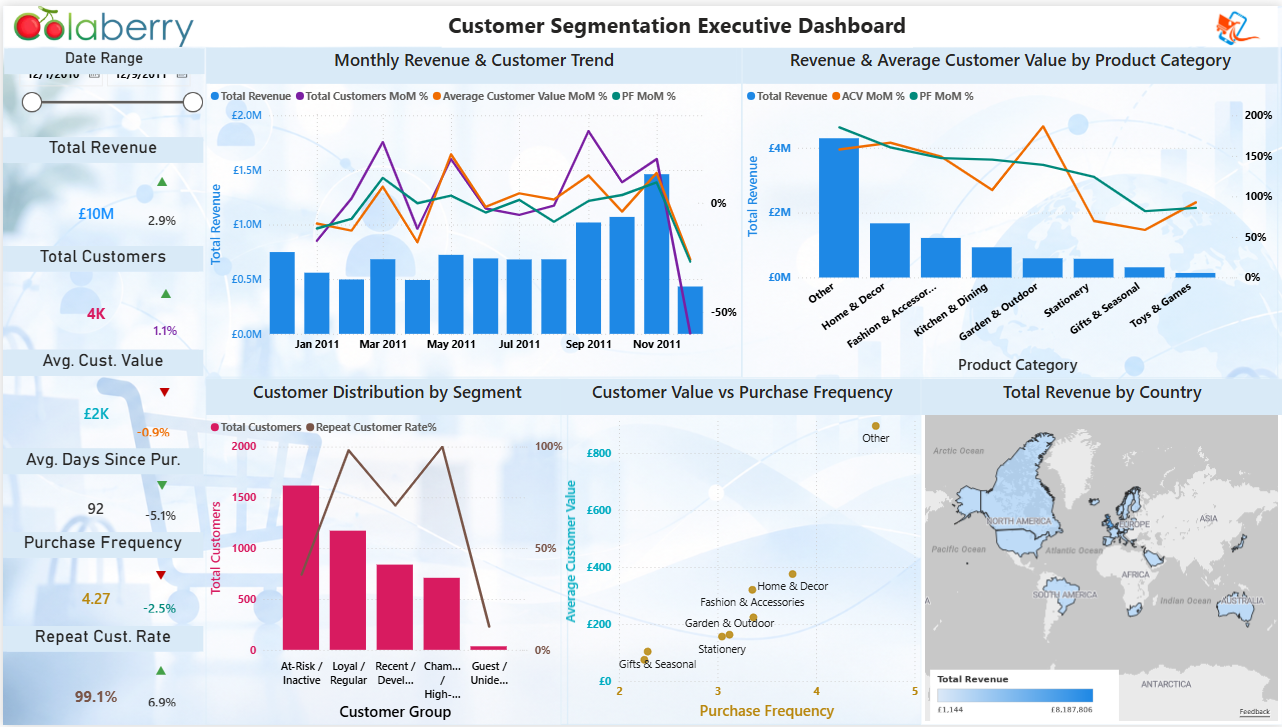

The page's visual inventory and layout, read from the dashboard file:
{"tool":"powerbi","page":{"name":" Final Dashboard - Revised","canvas":[1600,900],"ordinal":4},"visuals":[{"type":"shape","box":[1.6,0,1591.8,50.8],"z":0},{"type":"image","box":[1488.1,0,110.2,50.8],"z":1000},{"type":"image","box":[1.7,0,249.2,50.8],"z":2000},{"type":"slicer","fields":{"Values":["Online Retail.InvoiceDate"]},"box":[8.5,58,250.8,118],"z":3000},{"type":"cardVisual","fields":{"Data":["CustomerSegments.Total Customers"]},"box":[0,314.8,250.8,118],"z":4000},{"type":"cardVisual","fields":{"Data":["CustomerSegments.Average Customer Value"]},"box":[0,435.6,250,118.6],"z":5000},{"type":"cardVisual","fields":{"Data":["CustomerSegments.Average Days Since Purchase"]},"box":[0,550.8,250,118],"z":6000},{"type":"lineClusteredColumnComboChart","title":"Monthly Revenue & Customer Trend","fields":{"Category":["Online Retail.Month Start"],"Y":["CustomerSegments.Total Revenue"],"Y2":["CustomerSegments.Total Customers MoM %","CustomerSegments.Average Customer Value MoM %","CustomerSegments.Purchase Frequency MoM %"]},"box":[253.6,51.8,670,413],"z":7000},{"type":"lineStackedColumnComboChart","title":"Customer Distribution by Segment","fields":{"Category":["Online Retail.Customer Group"],"Y":["CustomerSegments.Total Customers"],"Y2":["CustomerSegments.Repeat Customer Rate by Segment"]},"box":[252.7,465.5,453,433.9],"z":8000},{"type":"scatterChart","title":"Customer Value vs Purchase Frequency","fields":{"Category":["Online Retail.Product Category"],"X":["CustomerSegments.Purchase Frequency Monthly"],"Y":["CustomerSegments.Average Customer Value"]},"box":[696.4,466.1,453,433],"z":9000},{"type":"lineClusteredColumnComboChart","title":"Revenue & Average Customer Value by Product Category","fields":{"Category":["Online Retail.Product Category"],"Y":["CustomerSegments.Total Revenue"],"Y2":["CustomerSegments.Average Customer Value MoM %","CustomerSegments.Purchase Frequency MoM %"]},"box":[923.2,51.8,670,413.6],"z":10000},{"type":"cardVisual","fields":{"Data":["CustomerSegments.Total Revenue"]},"box":[0,180.3,250.7,118],"z":11000},{"type":"cardVisual","fields":{"Data":["CustomerSegments.Average Frequency"]},"box":[0,661.2,250.8,118],"z":12000},{"type":"cardVisual","fields":{"Data":["CustomerSegments.Repeat Customer Rate"]},"box":[0,781.8,250.8,118],"z":13000},{"type":"cardVisual","fields":{"Data":["CustomerSegments.Revenue Avg MoM % KPI"]},"box":[145.9,242.6,100,49.2],"z":14000},{"type":"cardVisual","fields":{"Data":["CustomerSegments.Revenue MoM Arrow"]},"box":[154.1,191.8,80.3,50.8],"z":15000},{"type":"cardVisual","fields":{"Data":["CustomerSegments.Customers Avg MoM % KPI"]},"box":[147.5,380.3,100,49.2],"z":16000},{"type":"cardVisual","fields":{"Data":["CustomerSegments.Total Customers MoM Arrow"]},"box":[159,332.8,80,50],"z":17000},{"type":"cardVisual","fields":{"Data":["CustomerSegments.Average Customer Value Avg MoM % KPI"]},"box":[137.7,506.6,100,49],"z":18000},{"type":"cardVisual","fields":{"Data":["CustomerSegments.Average Customer Value MoM Arrow"]},"box":[157.4,455.7,80,50.8],"z":19000},{"type":"cardVisual","fields":{"Data":["CustomerSegments.Average Days Since Purchase MoM Arrow"]},"box":[154.1,572.1,80,50],"z":20000},{"type":"cardVisual","fields":{"Data":["CustomerSegments.Purchase Frequency Avg MoM % KPI"]},"box":[145.9,726.2,100,49.2],"z":21000},{"type":"cardVisual","fields":{"Data":["CustomerSegments.Purchase Frequency MoM Arrow"]},"box":[152.5,683.6,80,50.8],"z":22000},{"type":"cardVisual","fields":{"Data":["CustomerSegments.Repeat Customer Rate Avg MoM % KPI"]},"box":[145.9,844.3,100,49],"z":23000},{"type":"cardVisual","fields":{"Data":["CustomerSegments.Repeat Customer Rate MoM Arrow"]},"box":[152.5,803.3,80,50],"z":24000},{"type":"cardVisual","fields":{"Data":["CustomerSegments.Average Days Since Purchase Avg MoM FINAL"]},"box":[145.9,611.5,100,49.2],"z":25000},{"type":"cardVisual","fields":{"Data":["CustomerSegments.Repeat Customer Rate"]},"box":[60,827.3,114,71],"z":26000},{"type":"cardVisual","fields":{"Data":["CustomerSegments.Total Revenue"]},"box":[60,222,114,71.2],"z":27000},{"type":"cardVisual","fields":{"Data":["CustomerSegments.Total Customers"]},"box":[60,347.5,114,71],"z":28000},{"type":"cardVisual","fields":{"Data":["CustomerSegments.Average Customer Value"]},"box":[60,471.2,114,71],"z":29000},{"type":"cardVisual","fields":{"Data":["CustomerSegments.Average Days Since Purchase"]},"box":[59,590.2,113.1,70.5],"z":30000},{"type":"cardVisual","fields":{"Data":["CustomerSegments.Average Frequency"]},"box":[60,703.4,114,71],"z":31000},{"type":"azureMap","title":"Total Revenue by Country","fields":{"Category":["Online Retail.Country"]},"box":[1146.4,466.1,453,433.9],"z":32000},{"type":"textbox","box":[548.4,0,588.7,51.6],"z":33000},{"type":"textbox","title":"Total Revenue","box":[0,164.5,250,32.3],"z":34000},{"type":"textbox","title":"Date Range","box":[1.7,52.5,250,32],"z":35000},{"type":"textbox","title":"Total Customers","box":[0,300.5,250,32],"z":36000},{"type":"textbox","title":"Avg. Cust. Value","box":[0,429.3,250,32.6],"z":37000},{"type":"textbox","title":"Avg. Days Since Pur.","box":[0,552.9,250,32],"z":38000},{"type":"textbox","title":"Purchase Frequency","box":[0,657.7,250,32],"z":39000},{"type":"textbox","title":"Repeat Cust. Rate","box":[0,775.4,250,32],"z":40000},{"type":"image","box":[1145.9,829.5,263.9,65.6],"z":41000}]}

Visuals, with their boxes in screenshot pixels (x1, y1, x2, y2), scaled from the page's 1600x900 canvas onto the 1282x727 screenshot:
shape: [left=1, top=0, right=1277, bottom=41]
image: [left=1192, top=0, right=1281, bottom=41]
image: [left=1, top=0, right=201, bottom=41]
slicer - Online Retail.InvoiceDate: [left=7, top=47, right=208, bottom=142]
cardVisual - CustomerSegments.Total Customers: [left=0, top=254, right=201, bottom=350]
cardVisual - CustomerSegments.Average Customer Value: [left=0, top=352, right=200, bottom=448]
cardVisual - CustomerSegments.Average Days Since Purchase: [left=0, top=445, right=200, bottom=540]
"Monthly Revenue & Customer Trend" lineClusteredColumnComboChart: [left=203, top=42, right=740, bottom=375]
"Customer Distribution by Segment" lineStackedColumnComboChart: [left=202, top=376, right=565, bottom=726]
"Customer Value vs Purchase Frequency" scatterChart: [left=558, top=377, right=921, bottom=726]
"Revenue & Average Customer Value by Product Category" lineClusteredColumnComboChart: [left=740, top=42, right=1277, bottom=376]
cardVisual - CustomerSegments.Total Revenue: [left=0, top=146, right=201, bottom=241]
cardVisual - CustomerSegments.Average Frequency: [left=0, top=534, right=201, bottom=629]
cardVisual - CustomerSegments.Repeat Customer Rate: [left=0, top=632, right=201, bottom=726]
cardVisual - CustomerSegments.Revenue Avg MoM % KPI: [left=117, top=196, right=197, bottom=236]
cardVisual - CustomerSegments.Revenue MoM Arrow: [left=123, top=155, right=188, bottom=196]
cardVisual - CustomerSegments.Customers Avg MoM % KPI: [left=118, top=307, right=198, bottom=347]
cardVisual - CustomerSegments.Total Customers MoM Arrow: [left=127, top=269, right=191, bottom=309]
cardVisual - CustomerSegments.Average Customer Value Avg MoM % KPI: [left=110, top=409, right=190, bottom=449]
cardVisual - CustomerSegments.Average Customer Value MoM Arrow: [left=126, top=368, right=190, bottom=409]
cardVisual - CustomerSegments.Average Days Since Purchase MoM Arrow: [left=123, top=462, right=188, bottom=503]
cardVisual - CustomerSegments.Purchase Frequency Avg MoM % KPI: [left=117, top=587, right=197, bottom=626]
cardVisual - CustomerSegments.Purchase Frequency MoM Arrow: [left=122, top=552, right=186, bottom=593]
cardVisual - CustomerSegments.Repeat Customer Rate Avg MoM % KPI: [left=117, top=682, right=197, bottom=722]
cardVisual - CustomerSegments.Repeat Customer Rate MoM Arrow: [left=122, top=649, right=186, bottom=689]
cardVisual - CustomerSegments.Average Days Since Purchase Avg MoM FINAL: [left=117, top=494, right=197, bottom=534]
cardVisual - CustomerSegments.Repeat Customer Rate: [left=48, top=668, right=139, bottom=726]
cardVisual - CustomerSegments.Total Revenue: [left=48, top=179, right=139, bottom=237]
cardVisual - CustomerSegments.Total Customers: [left=48, top=281, right=139, bottom=338]
cardVisual - CustomerSegments.Average Customer Value: [left=48, top=381, right=139, bottom=438]
cardVisual - CustomerSegments.Average Days Since Purchase: [left=47, top=477, right=138, bottom=534]
cardVisual - CustomerSegments.Average Frequency: [left=48, top=568, right=139, bottom=626]
"Total Revenue by Country" azureMap: [left=919, top=377, right=1281, bottom=726]
textbox: [left=439, top=0, right=911, bottom=42]
"Total Revenue" textbox: [left=0, top=133, right=200, bottom=159]
"Date Range" textbox: [left=1, top=42, right=202, bottom=68]
"Total Customers" textbox: [left=0, top=243, right=200, bottom=269]
"Avg. Cust. Value" textbox: [left=0, top=347, right=200, bottom=373]
"Avg. Days Since Pur." textbox: [left=0, top=447, right=200, bottom=472]
"Purchase Frequency" textbox: [left=0, top=531, right=200, bottom=557]
"Repeat Cust. Rate" textbox: [left=0, top=626, right=200, bottom=652]
image: [left=918, top=670, right=1130, bottom=723]
